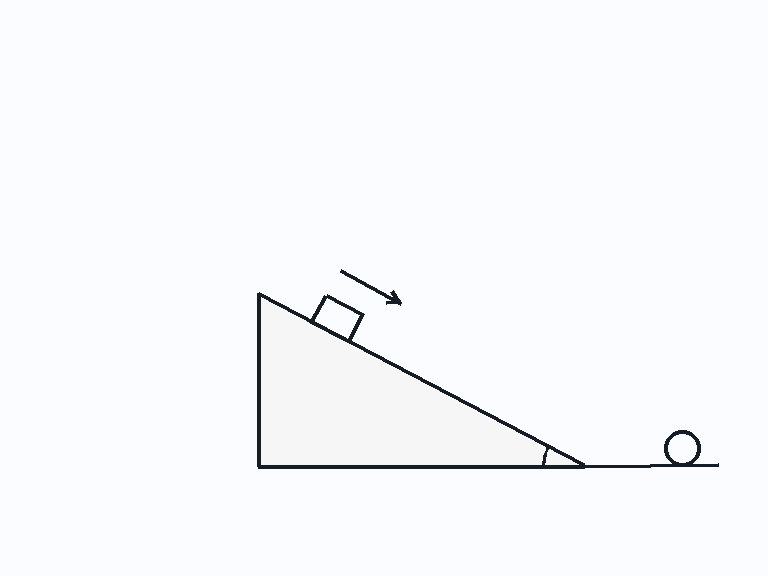ball: (662, 428, 702, 468)
block: (309, 293, 365, 343)
ramp: (256, 291, 585, 468)
